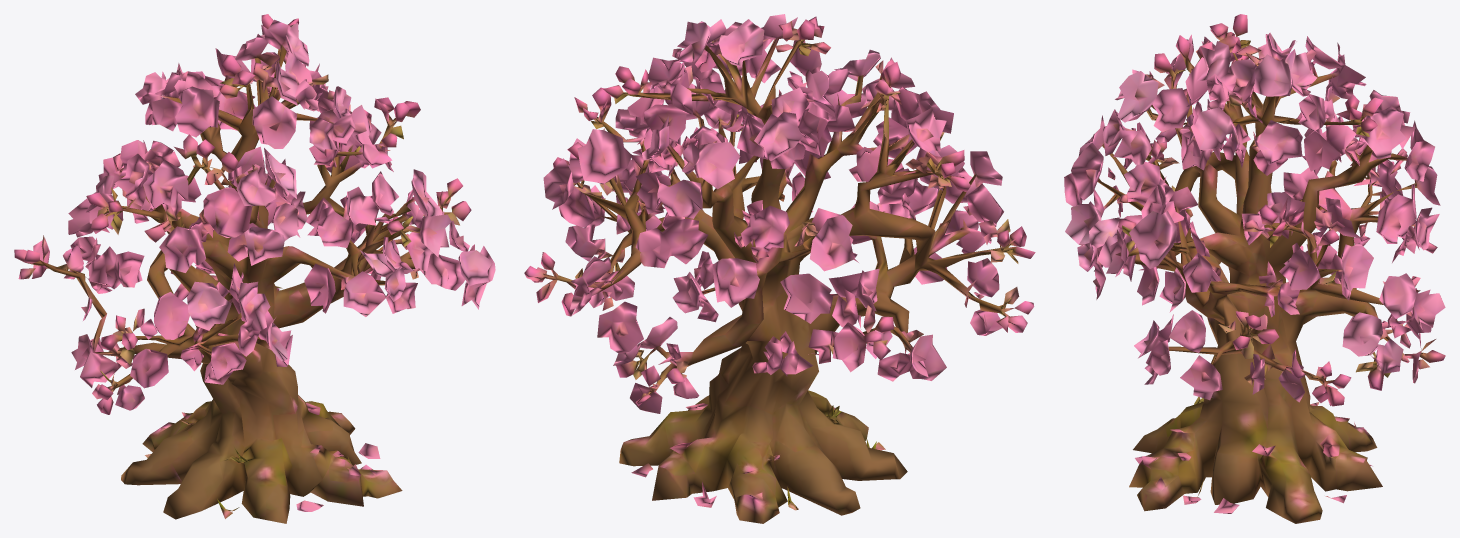
File: tree_c.glb
3 renders of one model, left to right at view 1: azimuth 30°, elevation 25°; view 2: azimuth 150°, elevation 25°; view 3: azimuth 270°, elevation 25°, orthographic. The views are drawn at different scales.
Visible parts, largest first — view 1: tripo_node_4f17ce03-cebd-449e-ba71-e90feed2f5a8; view 2: tripo_node_4f17ce03-cebd-449e-ba71-e90feed2f5a8; view 3: tripo_node_4f17ce03-cebd-449e-ba71-e90feed2f5a8.
Part boxes in pixels (x1,y1,x2,y2): tripo_node_4f17ce03-cebd-449e-ba71-e90feed2f5a8: [14, 14, 495, 523]; tripo_node_4f17ce03-cebd-449e-ba71-e90feed2f5a8: [524, 14, 1035, 523]; tripo_node_4f17ce03-cebd-449e-ba71-e90feed2f5a8: [1064, 14, 1445, 523].
Size of the model in its own units: 0.9936 by 0.9981 by 0.7793.
Materials: 1 (1 with a texture image).
